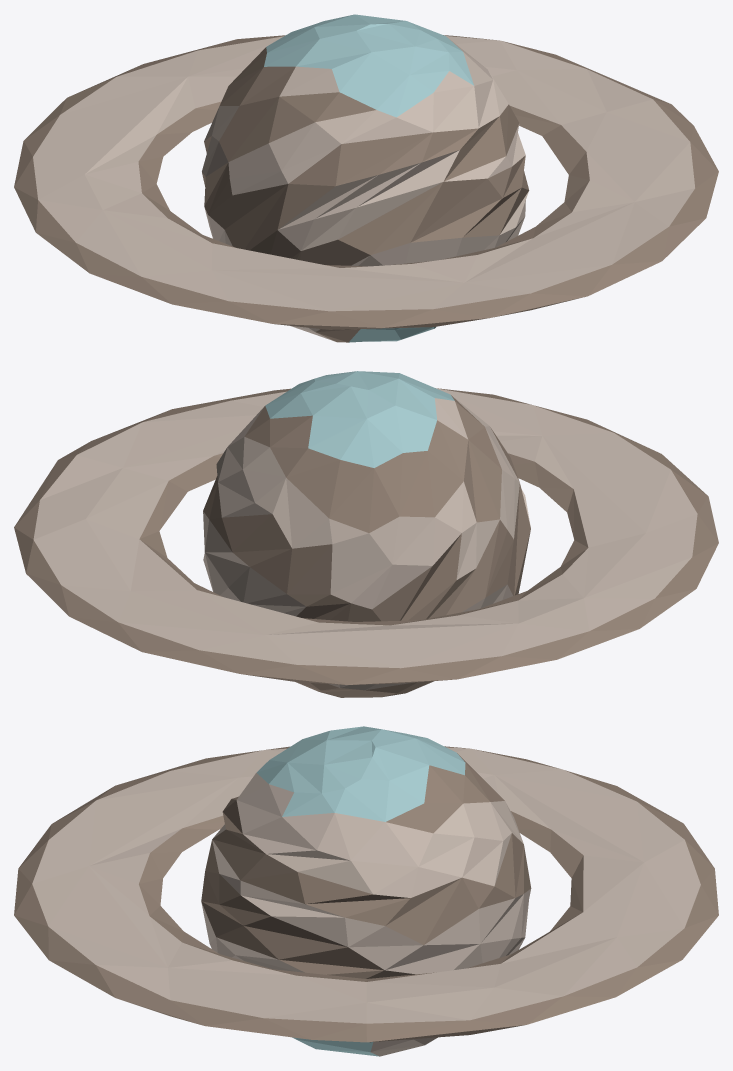
The model's file is Saturn.fbx.
3 renders of one model, top to bottom at view 1: azimuth 30°, elevation 25°; view 2: azimuth 150°, elevation 25°; view 3: azimuth 270°, elevation 25°, orthographic.
Visible parts, largest first — view 1: pPipe6, saturn2; view 2: pPipe6, saturn2; view 3: pPipe6, saturn2.
Part boxes in pixels (x1,y1,x2,y2): pPipe6: (14, 35, 718, 329); saturn2: (202, 14, 529, 342); pPipe6: (14, 388, 718, 684); saturn2: (203, 371, 530, 697); pPipe6: (14, 746, 718, 1042); saturn2: (201, 726, 531, 1056).
Bounding box in the file's own units: 12.93 × 6.03 × 12.89.
